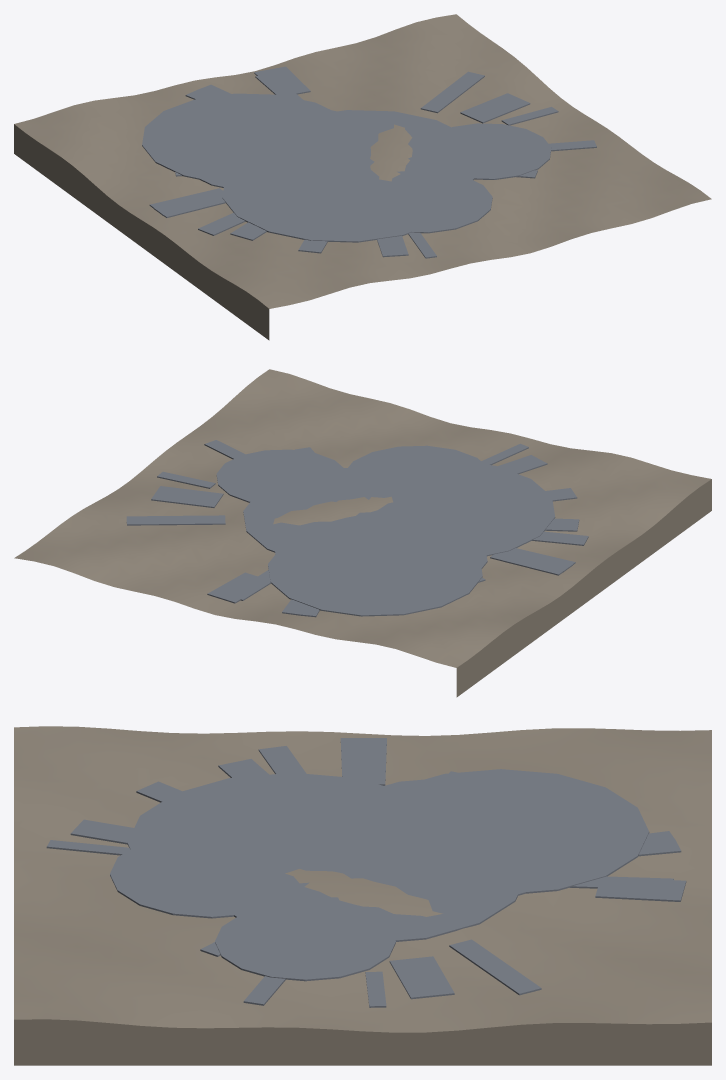
The model's file is ufo-crash-site-and-recovery-facility-scorched-ground-t-63d04b2a__17337.glb.
3 views of the same model, one above another, from view 1: azimuth 30°, elevation 25°; view 2: azimuth 150°, elevation 25°; view 3: azimuth 270°, elevation 25° (orthographic). The views are drawn at different scales.
Parts seen in each view (by area): view 1: scorched-ground-tile; view 2: scorched-ground-tile; view 3: scorched-ground-tile.
Boxes of the visible parts, box(x1,y1,x2,y2) form: scorched-ground-tile: box(14, 14, 711, 340); scorched-ground-tile: box(14, 369, 711, 697); scorched-ground-tile: box(14, 726, 711, 1065).
Bounding box in the file's own units: 8 × 0.5879 × 8.
